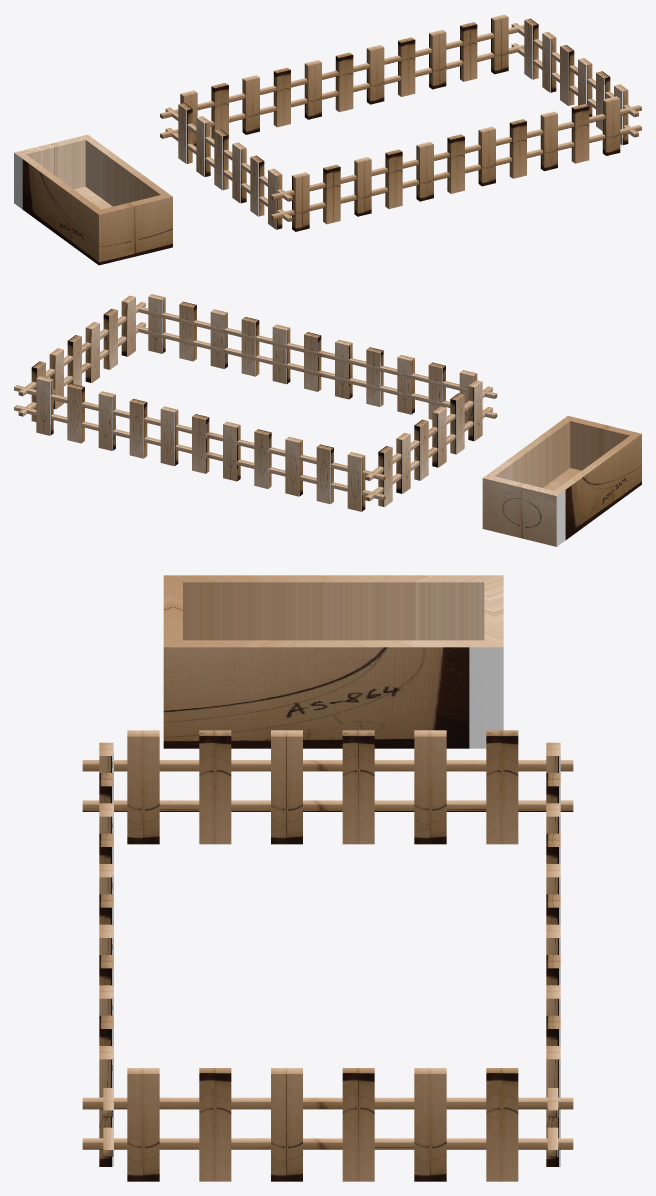
File: farm.fbx
The picture shows the model from 3 angles, top to bottom: view 1: azimuth 30°, elevation 25°; view 2: azimuth 150°, elevation 25°; view 3: azimuth 270°, elevation 25°; orthographic projection. The views are drawn at different scales.
Parts seen in each view (by area): view 1: pCube45, pCube40, pCube37, pCube38, pCube39, pCube13, pCube12, pCube20, pCube19, pCube4, pCube5, pCube3 (+31 smaller); view 2: pCube45, pCube37, pCube40, pCube39, pCube38, pCube20, pCube14, pCube21, pCube18, pCube22, pCube23, pCube15 (+30 smaller); view 3: pCube45, pCube31, pCube35, pCube32, pCube34, pCube36, pCube25, pCube26, pCube28, pCube29, pCube30, pCube44 (+7 smaller).
Boxes of the visible parts, x1,y1,x2,y2 form: pCube45: (14, 134, 172, 265); pCube40: (271, 125, 641, 219); pCube37: (271, 105, 641, 200); pCube38: (160, 24, 524, 118); pCube39: (160, 44, 524, 138); pCube13: (602, 96, 620, 155); pCube12: (571, 104, 589, 163); pCube20: (366, 45, 384, 104); pCube19: (335, 52, 353, 112); pCube4: (323, 164, 340, 224); pCube5: (354, 157, 371, 216); pCube3: (292, 172, 309, 231); pCube45: (482, 416, 641, 546); pCube37: (136, 305, 497, 398); pCube40: (136, 325, 497, 418); pCube39: (14, 405, 385, 500); pCube38: (14, 385, 385, 480); pCube20: (160, 406, 178, 466); pCube14: (347, 452, 365, 511); pCube21: (129, 399, 147, 458); pCube18: (223, 421, 240, 481); pCube22: (98, 391, 115, 450); pCube23: (67, 383, 84, 443); pCube15: (316, 444, 333, 504); pCube45: (163, 575, 503, 748); pCube31: (127, 730, 159, 844); pCube35: (414, 730, 446, 844); pCube32: (199, 730, 231, 844); pCube34: (342, 730, 374, 844); pCube36: (486, 730, 518, 844); pCube25: (127, 1068, 159, 1181); pCube26: (199, 1068, 231, 1181); pCube28: (342, 1068, 374, 1181); pCube29: (414, 1068, 446, 1181); pCube30: (486, 1068, 518, 1181); pCube44: (82, 1097, 573, 1109).
Size of the model in its own units: 8.49 by 0.8478 by 3.42.
Materials: 1 (1 with a texture image).
